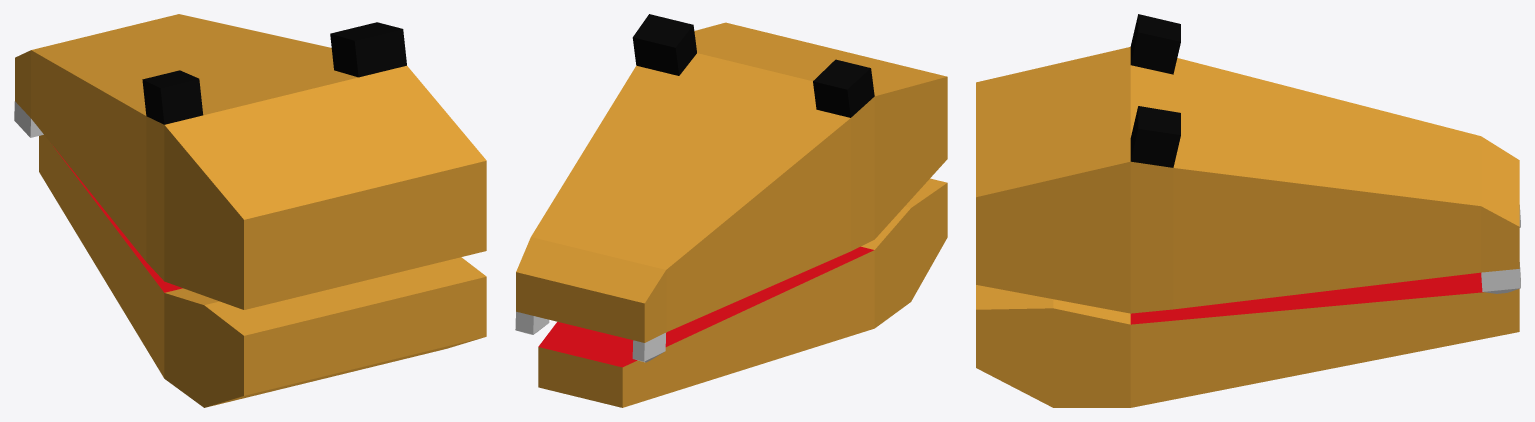
3 views of the same model, side by side, from view 1: azimuth 30°, elevation 25°; view 2: azimuth 150°, elevation 25°; view 3: azimuth 270°, elevation 25° (orthographic). The views are drawn at different scales.
Parts seen in each view (by area): view 1: Cube; view 2: Cube; view 3: Cube.
Boxes of the visible parts, left/top/right/bottom form: Cube: left=14, top=14, right=486, bottom=407; Cube: left=515, top=14, right=947, bottom=407; Cube: left=976, top=14, right=1520, bottom=407.
Bounding box in the file's own units: 100 × 113 × 200.
